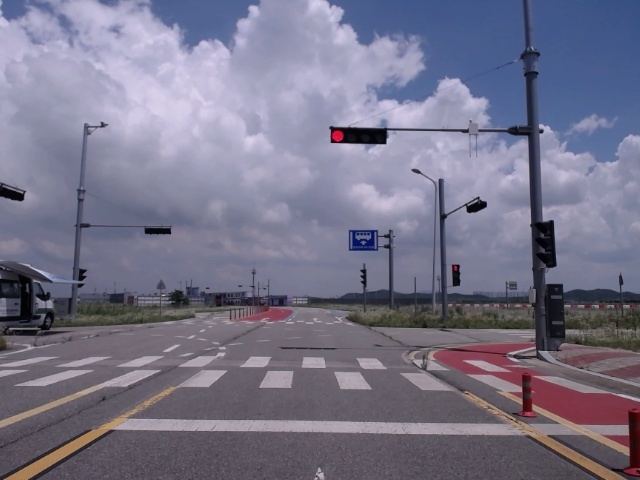red_4: (331, 128, 386, 144)
